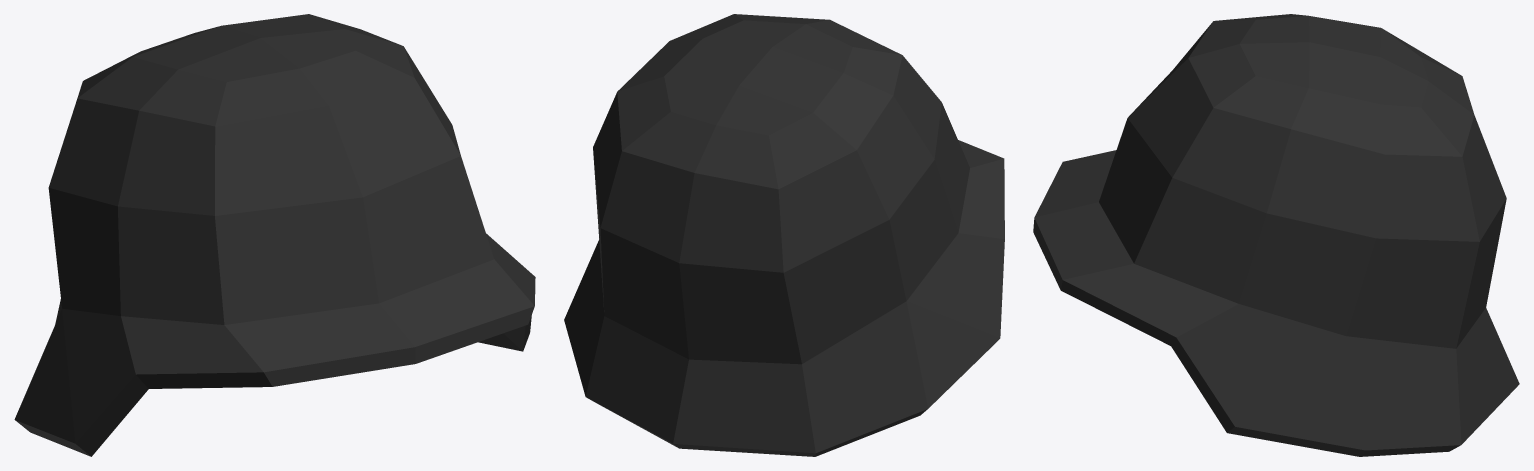
File: SM_Char_Attach_German_Helmet_01.fbx
3 renders of one model, left to right at view 1: azimuth 30°, elevation 25°; view 2: azimuth 150°, elevation 25°; view 3: azimuth 270°, elevation 25°, orthographic. The views are drawn at different scales.
Parts seen in each view (by area): view 1: SM_Char_Attach_German_Helmet_01; view 2: SM_Char_Attach_German_Helmet_01; view 3: SM_Char_Attach_German_Helmet_01.
Boxes of the visible parts, x1,y1,x2,y2 form: SM_Char_Attach_German_Helmet_01: (14,14,535,456); SM_Char_Attach_German_Helmet_01: (564,14,1004,456); SM_Char_Attach_German_Helmet_01: (1033,14,1519,456).
Size of the model in its own units: 35.56 by 29.6 by 36.92.
Materials: 1 (1 with a texture image).
